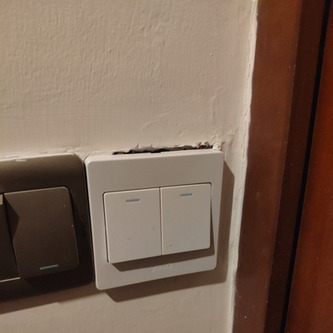switch: (99, 185, 171, 268), (160, 179, 222, 260)
